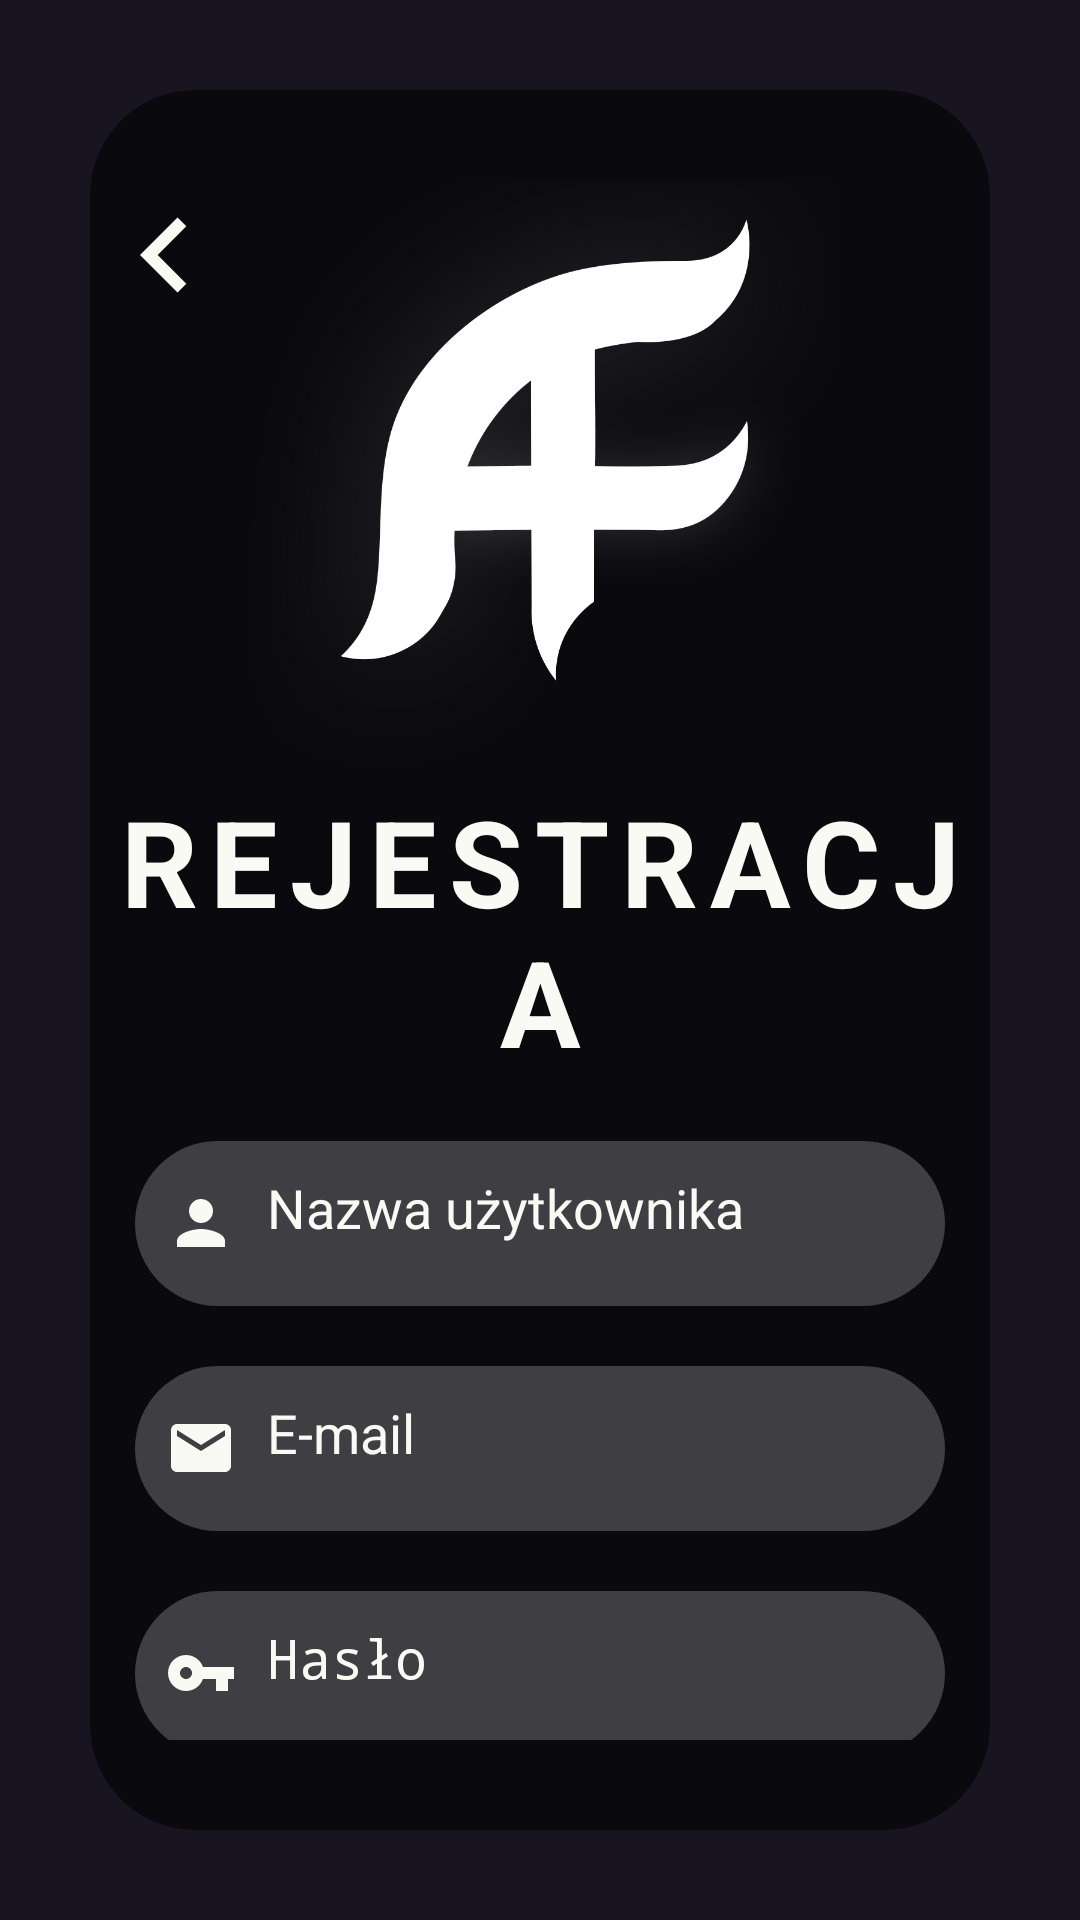

Screen size 1080×1920. Icon name, then its box in pixels as (x1, y1, x2, y2):
keyboard arrow left: (140, 217, 186, 293)
